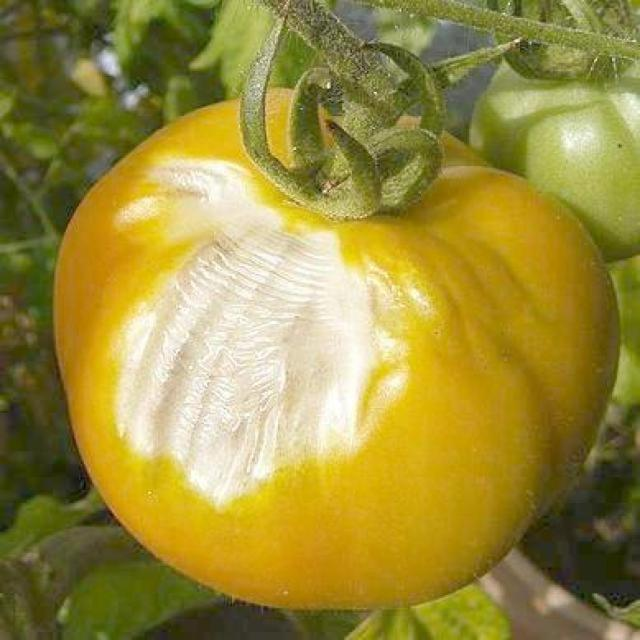Sunscald Fruit: (65, 99, 283, 349)
